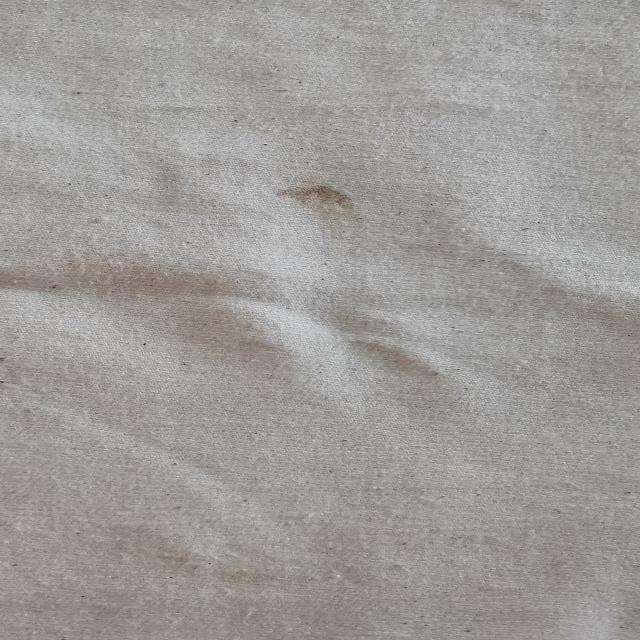taaaches: (250, 162, 390, 232), (98, 0, 254, 30)
